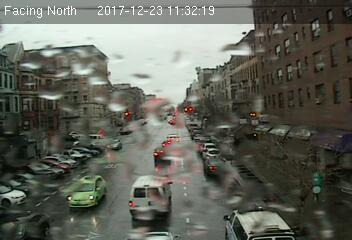car: (67, 175, 107, 208), (203, 158, 223, 175), (153, 147, 172, 160)
police: (223, 200, 298, 240)
truck: (129, 175, 174, 217)
